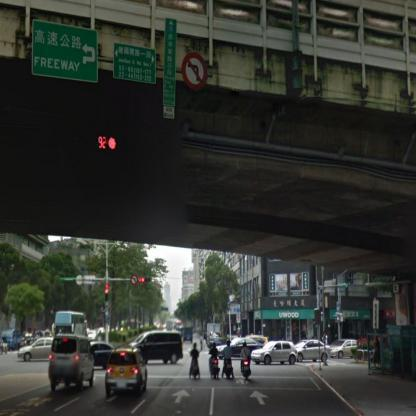Red Light: (92, 131, 137, 155), (138, 274, 154, 284)
